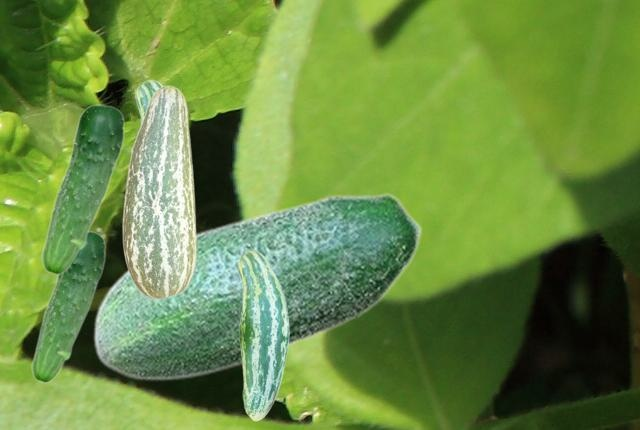cucumber: (92, 192, 422, 380), (122, 85, 196, 298), (40, 104, 124, 274), (30, 230, 105, 382), (237, 250, 288, 420), (135, 79, 162, 123)
